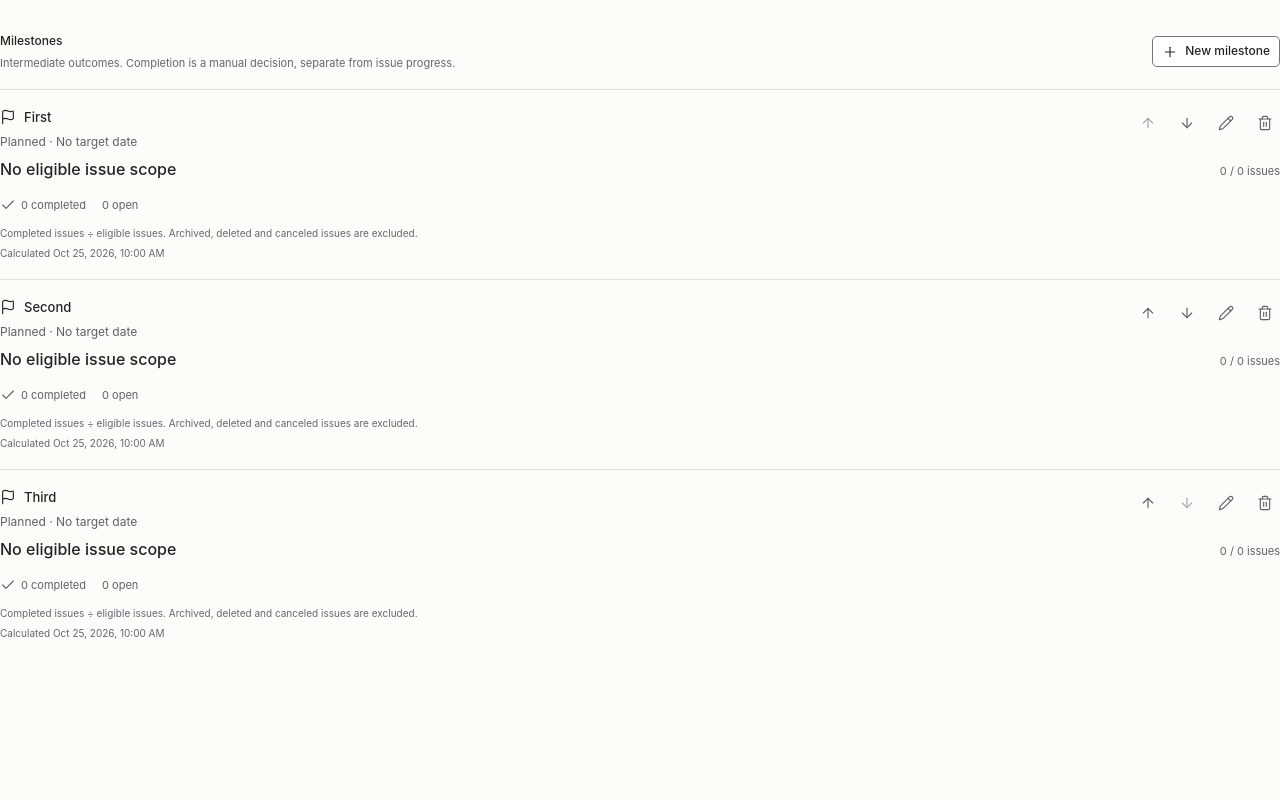
keeps a milestone recovery unresolved for metadata tag used as full tag
The width and height of the screenshot is (1280, 800).
Click the button named "Move Second up" at x=1148, y=313, box [1132,298,1163,328]
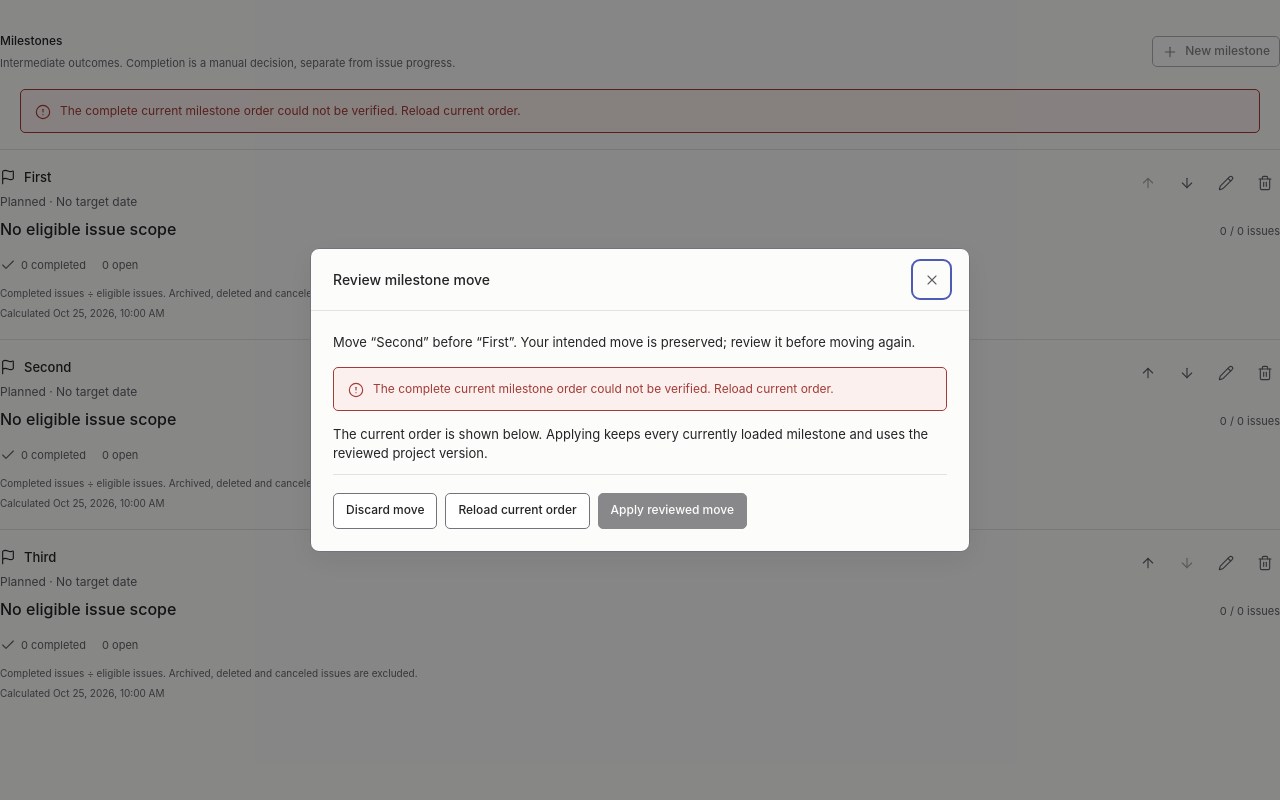
expect the dialog shows "Review milestone move": met, box [333,271,490,288]
expect the button "Reload current order" is enabled: met, box [445,493,590,529]
